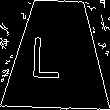L_N: (40, 29, 74, 80)
